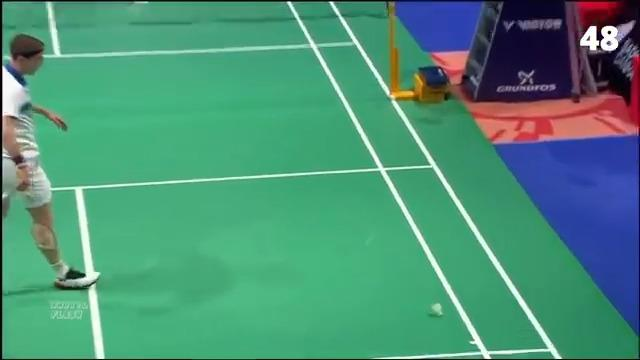Shuttlecock: (430, 300, 446, 320)
